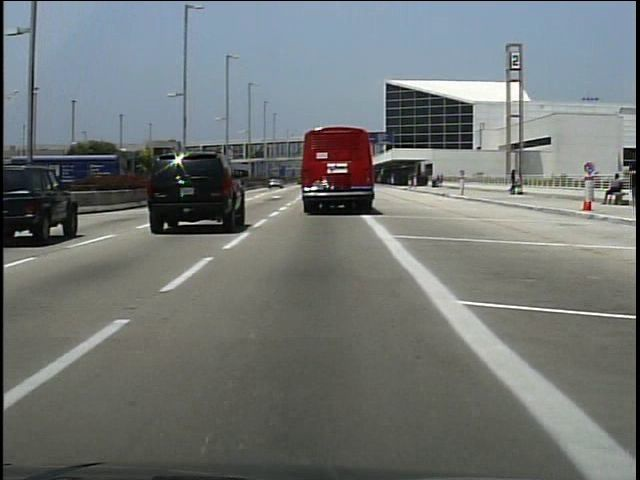person: (600, 172, 624, 209)
